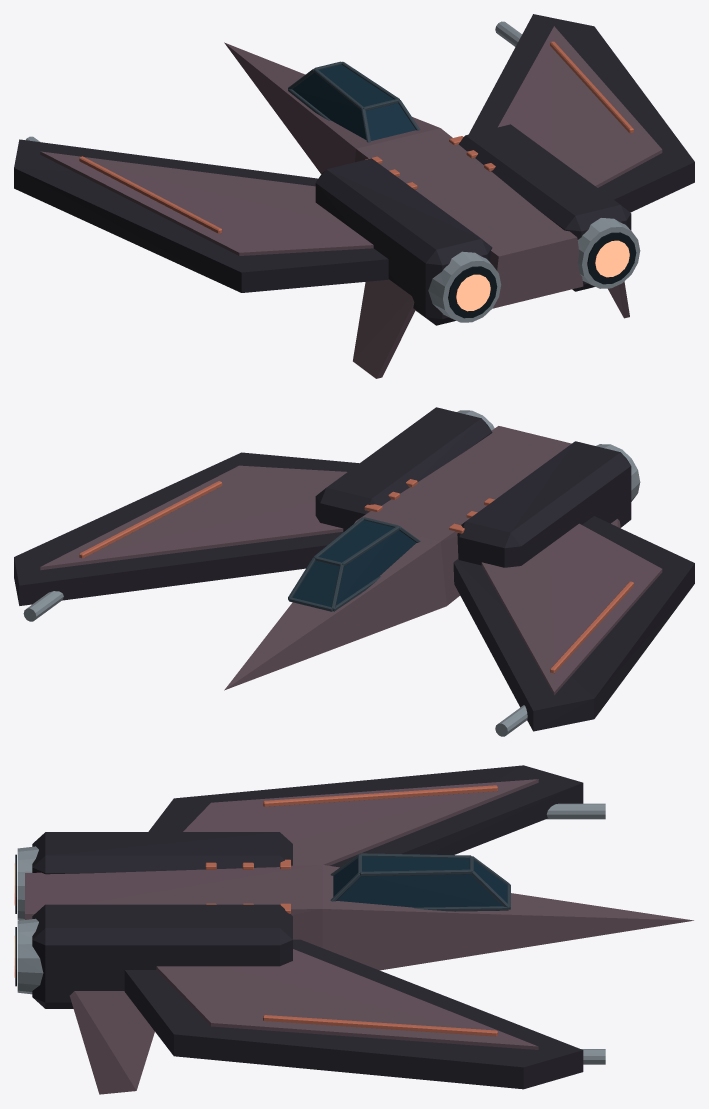
The model's file is raider_fleet_a.glb.
The picture shows the model from 3 angles, top to bottom: view 1: azimuth 30°, elevation 25°; view 2: azimuth 150°, elevation 25°; view 3: azimuth 270°, elevation 25°; orthographic projection. The views are drawn at different scales.
Parts seen in each view (by area): view 1: Raider_Flotte_A; view 2: Raider_Flotte_A; view 3: Raider_Flotte_A.
Part boxes in pixels (left/top/right/bottom): Raider_Flotte_A: left=14, top=14, right=694, bottom=378; Raider_Flotte_A: left=14, top=407, right=694, bottom=736; Raider_Flotte_A: left=14, top=765, right=693, bottom=1094.
Size of the model in its own units: 19.2 by 4.91 by 18.29.
